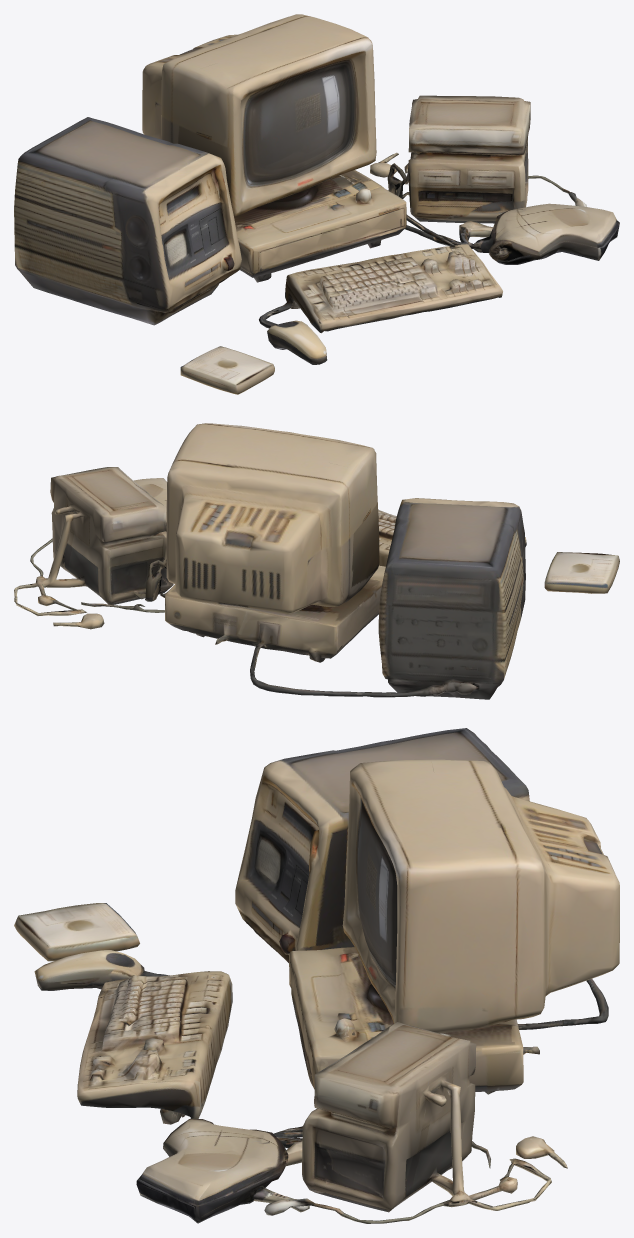
Rendered from lumen2.glb.
3 views of the same model, one above another, from view 1: azimuth 30°, elevation 25°; view 2: azimuth 150°, elevation 25°; view 3: azimuth 270°, elevation 25° (orthographic). The views are drawn at different scales.
Size of the model in its own units: 2 by 0.7207 by 1.54.
Materials: 1 (1 with a texture image).
